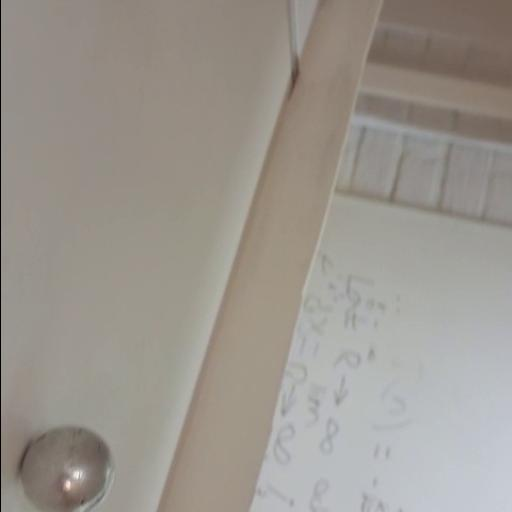alive: (16, 421, 114, 511)
